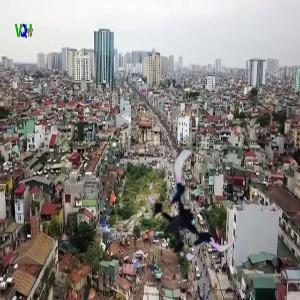drone: (137, 163, 245, 271)
